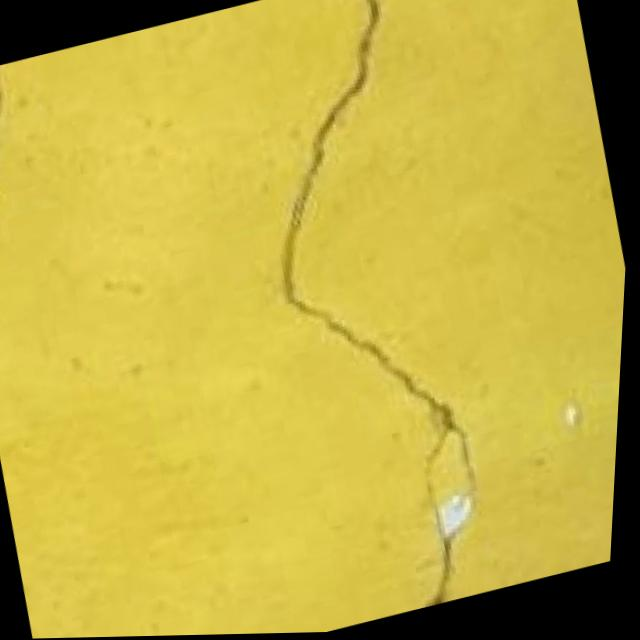Crack: (200, 0, 553, 633), (0, 52, 104, 333)
